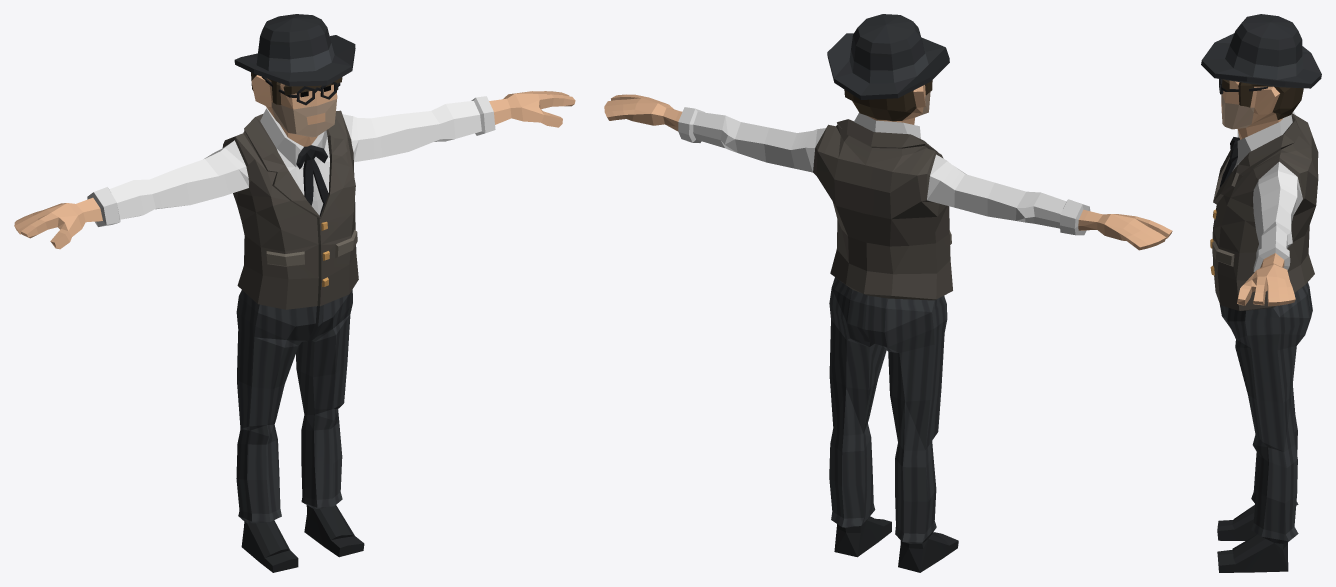
Rendered from business_man.fbx.
The picture shows the model from 3 angles, left to right: view 1: azimuth 30°, elevation 25°; view 2: azimuth 150°, elevation 25°; view 3: azimuth 270°, elevation 25°; orthographic projection.
Parts seen in each view (by area): view 1: Character_Business_Man_01_11; view 2: Character_Business_Man_01_11; view 3: Character_Business_Man_01_11.
Boxes of the visible parts, x1,y1,x2,y2 form: Character_Business_Man_01_11: (14, 14, 575, 572); Character_Business_Man_01_11: (604, 14, 1172, 572); Character_Business_Man_01_11: (1201, 14, 1321, 572).
Bounding box in the file's own units: 205 × 186 × 38.6.
